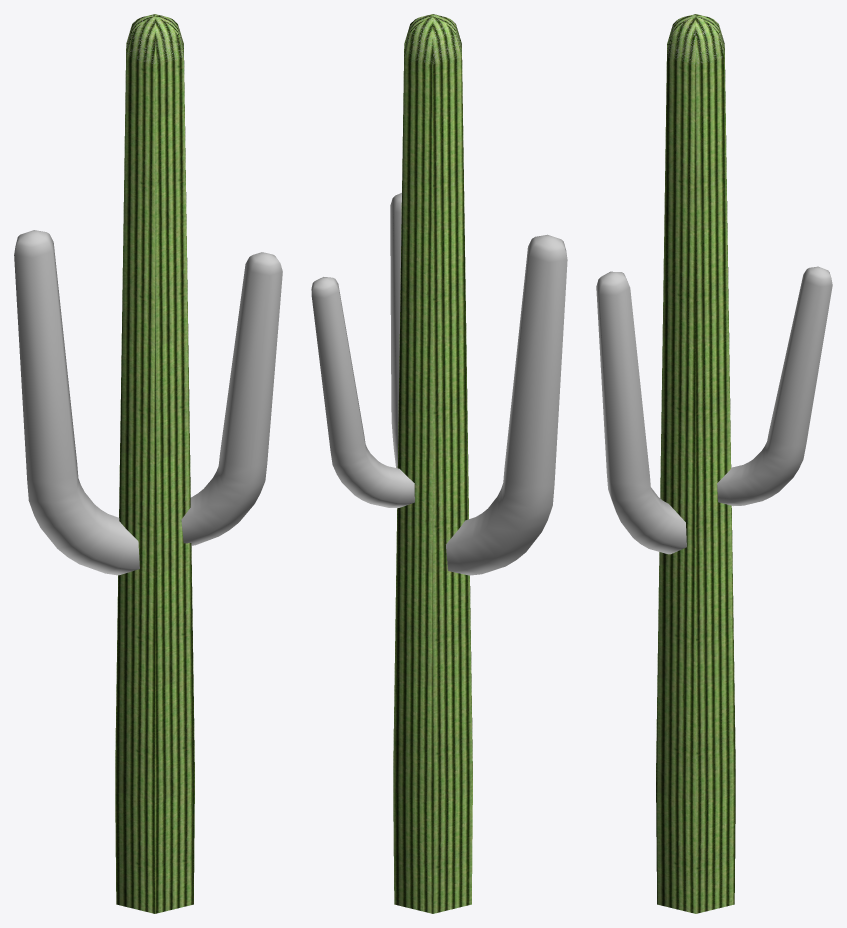
File: saguaro.dae
The picture shows the model from 3 angles, left to right: view 1: azimuth 30°, elevation 25°; view 2: azimuth 150°, elevation 25°; view 3: azimuth 270°, elevation 25°; orthographic projection.
Visible parts, largest first — view 1: ID3, ID31 (×2), ID16; view 2: ID3, ID31 (×3), ID16; view 3: ID3, ID31 (×2), ID16.
Boxes of the visible parts, <box> form: ID3: <box>115,48,194,913</box>; ID31 (×2): <box>14,230,282,575</box>; ID16: <box>126,14,183,64</box>; ID3: <box>393,49,472,913</box>; ID31 (×3): <box>311,193,567,575</box>; ID16: <box>404,14,461,64</box>; ID3: <box>656,48,735,913</box>; ID31 (×2): <box>596,266,832,554</box>; ID16: <box>667,14,724,64</box>.
Bounding box in the file's own units: 77.23 × 71.8 × 294.
